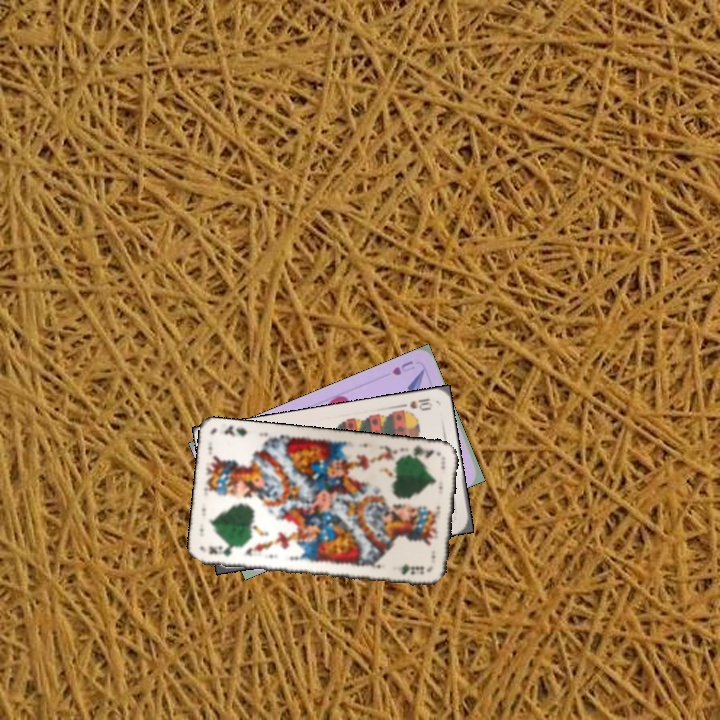GK: (401, 441, 437, 461), (204, 542, 235, 559)
HU: (388, 356, 417, 378)
S10: (395, 394, 435, 416)
